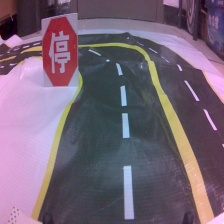stop: (41, 13, 80, 88)
